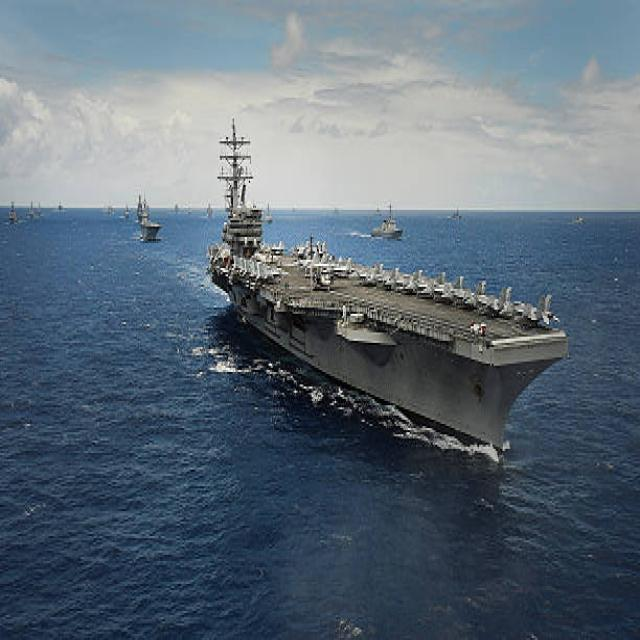Military: (208, 137, 570, 453), (373, 210, 408, 243), (138, 204, 162, 243)
